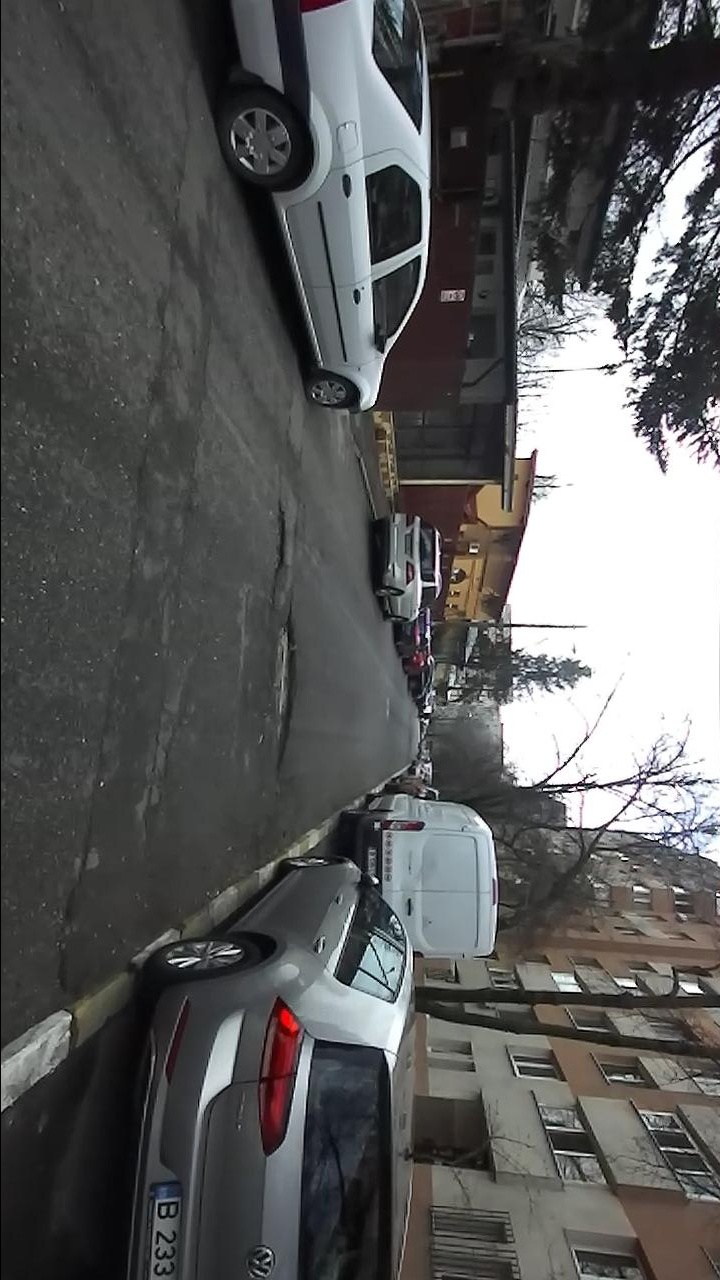pothole: (45, 817, 98, 986), (265, 605, 302, 778), (271, 497, 288, 582)
